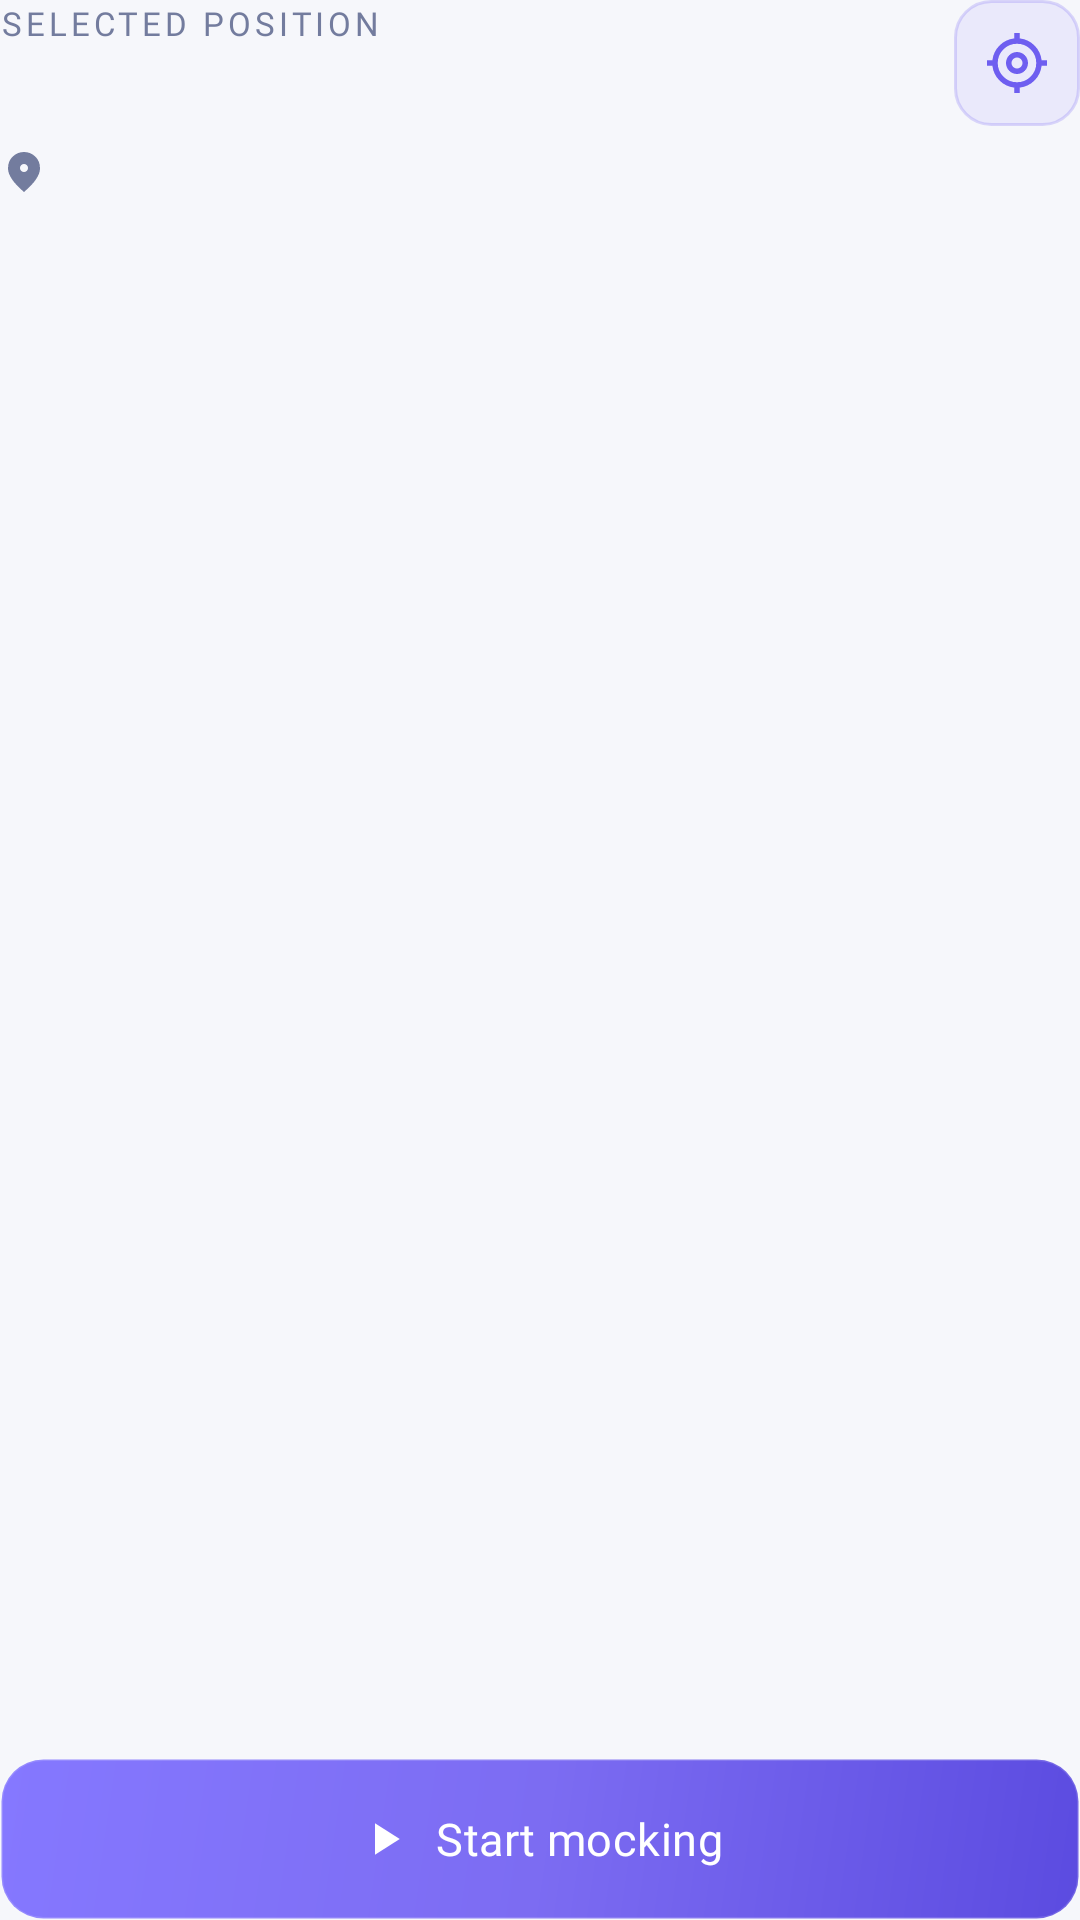

Icons on this 1080w x 1920h Android screen, each with its box as box=[x1, y1, x2, y2]:
location: box=[987, 33, 1047, 93]
location on: box=[8, 152, 40, 192]
